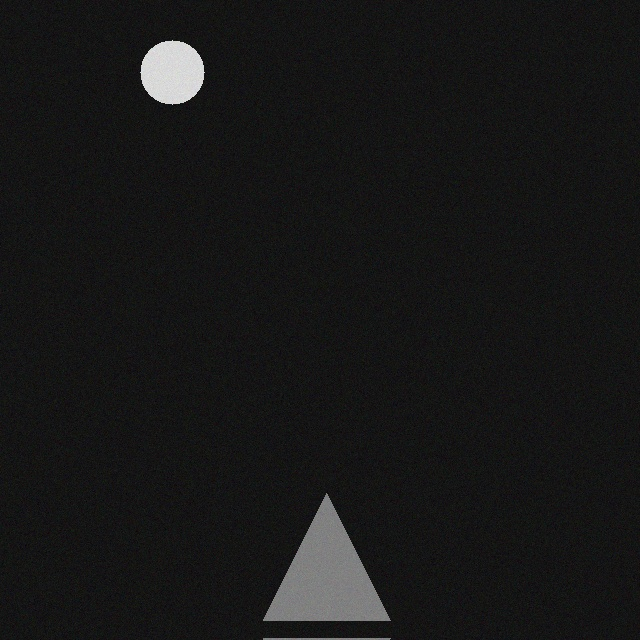circle: (155, 50, 219, 114)
triangle: (278, 503, 405, 630)
